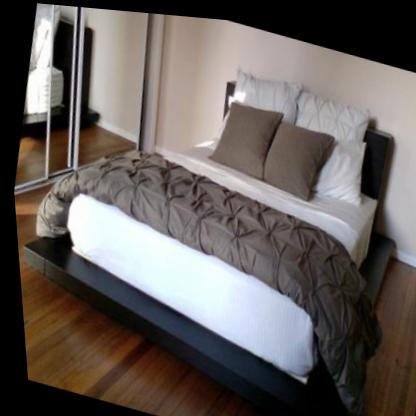Bed: (0, 6, 416, 416)
